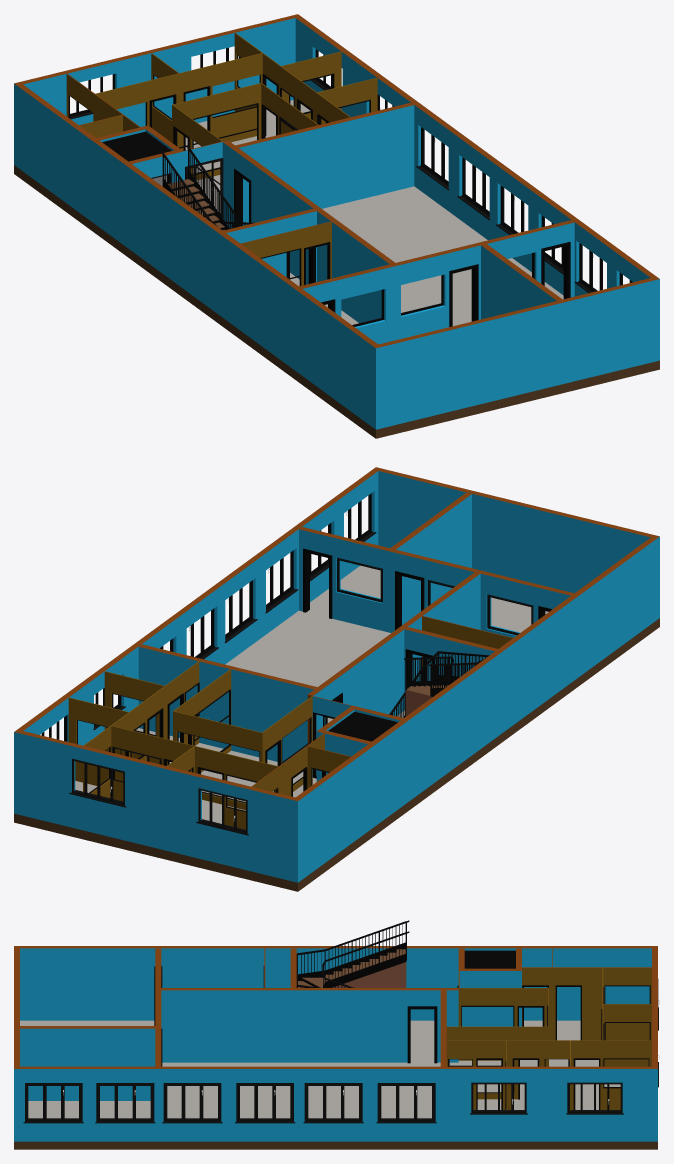
File: Floor3.gltf
The picture shows the model from 3 angles, top to bottom: view 1: azimuth 30°, elevation 25°; view 2: azimuth 150°, elevation 25°; view 3: azimuth 270°, elevation 25°; orthographic projection. The views are drawn at different scales.
Parts seen in each view (by area): view 1: Wall, Slab, Wall.007, Wall.004, Wall.009, Wall.006, Wall.003, Wall.002, Wall.008, Stair, Wall.001, Wall.018 (+12 smaller); view 2: Wall, Slab, Wall.004, Wall.007, Wall.009, Wall.006, Wall.002, Wall.008, Stair, Wall.003, Wall.001, Wall.016 (+9 smaller); view 3: Wall, Slab, Wall.003, Wall.006, Wall.002, Wall.012, Stair, Wall.009, Wall.010, Wall.005, Wall.008, Wall.013 (+13 smaller).
Part boxes in pixels (x1=…): Wall: x1=14, y1=14, x2=659, y2=429; Slab: x1=14, y1=100, x2=659, y2=438; Wall.007: x1=235, y1=102, x2=414, y2=225; Wall.004: x1=299, y1=220, x2=574, y2=344; Wall.009: x1=95, y1=53, x2=350, y2=150; Wall.006: x1=222, y1=140, x2=317, y2=284; Wall.003: x1=312, y1=206, x2=396, y2=323; Wall.002: x1=481, y1=244, x2=562, y2=319; Wall.008: x1=173, y1=83, x2=318, y2=180; Stair: x1=161, y1=145, x2=254, y2=230; Wall.001: x1=223, y1=208, x2=316, y2=282; Wall.018: x1=240, y1=221, x2=331, y2=285; Wall: x1=14, y1=467, x2=659, y2=882; Slab: x1=14, y1=565, x2=659, y2=891; Wall.004: x1=299, y1=527, x2=573, y2=637; Wall.007: x1=138, y1=644, x2=317, y2=762; Wall.009: x1=111, y1=661, x2=278, y2=829; Wall.006: x1=307, y1=628, x2=404, y2=774; Wall.002: x1=390, y1=492, x2=471, y2=624; Wall.008: x1=173, y1=669, x2=261, y2=810; Stair: x1=389, y1=651, x2=489, y2=717; Wall.003: x1=399, y1=571, x2=481, y2=711; Wall.001: x1=402, y1=626, x2=497, y2=710; Wall.016: x1=68, y1=697, x2=128, y2=785; Wall: x1=14, y1=946, x2=657, y2=1141; Slab: x1=14, y1=1020, x2=657, y2=1149; Wall.003: x1=157, y1=988, x2=298, y2=1062; Wall.006: x1=296, y1=988, x2=458, y2=1062; Wall.002: x1=20, y1=1026, x2=155, y2=1100; Wall.012: x1=522, y1=967, x2=651, y2=1040; Stair: x1=296, y1=920, x2=409, y2=987; Wall.009: x1=446, y1=968, x2=603, y2=1109; Wall.010: x1=458, y1=948, x2=521, y2=1026; Wall.005: x1=458, y1=988, x2=548, y2=1060; Wall.008: x1=446, y1=988, x2=548, y2=1099; Wall.013: x1=603, y1=1040, x2=651, y2=1109.
Size of the model in its own units: 9.89 by 4.07 by 21.81.
